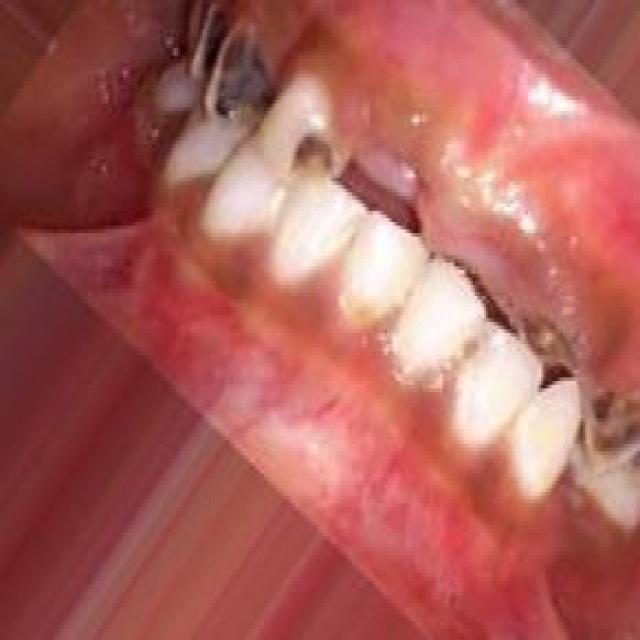caries: (273, 108, 352, 214), (210, 17, 274, 131), (583, 355, 640, 481), (517, 295, 578, 400), (189, 3, 225, 80)
